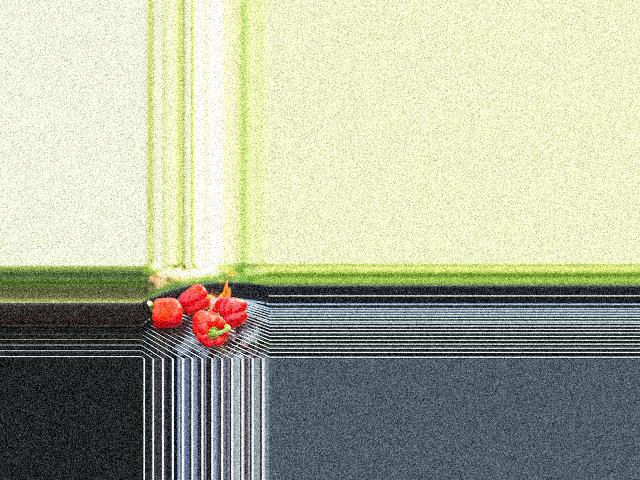bell_pepper: (212, 295, 248, 326)
